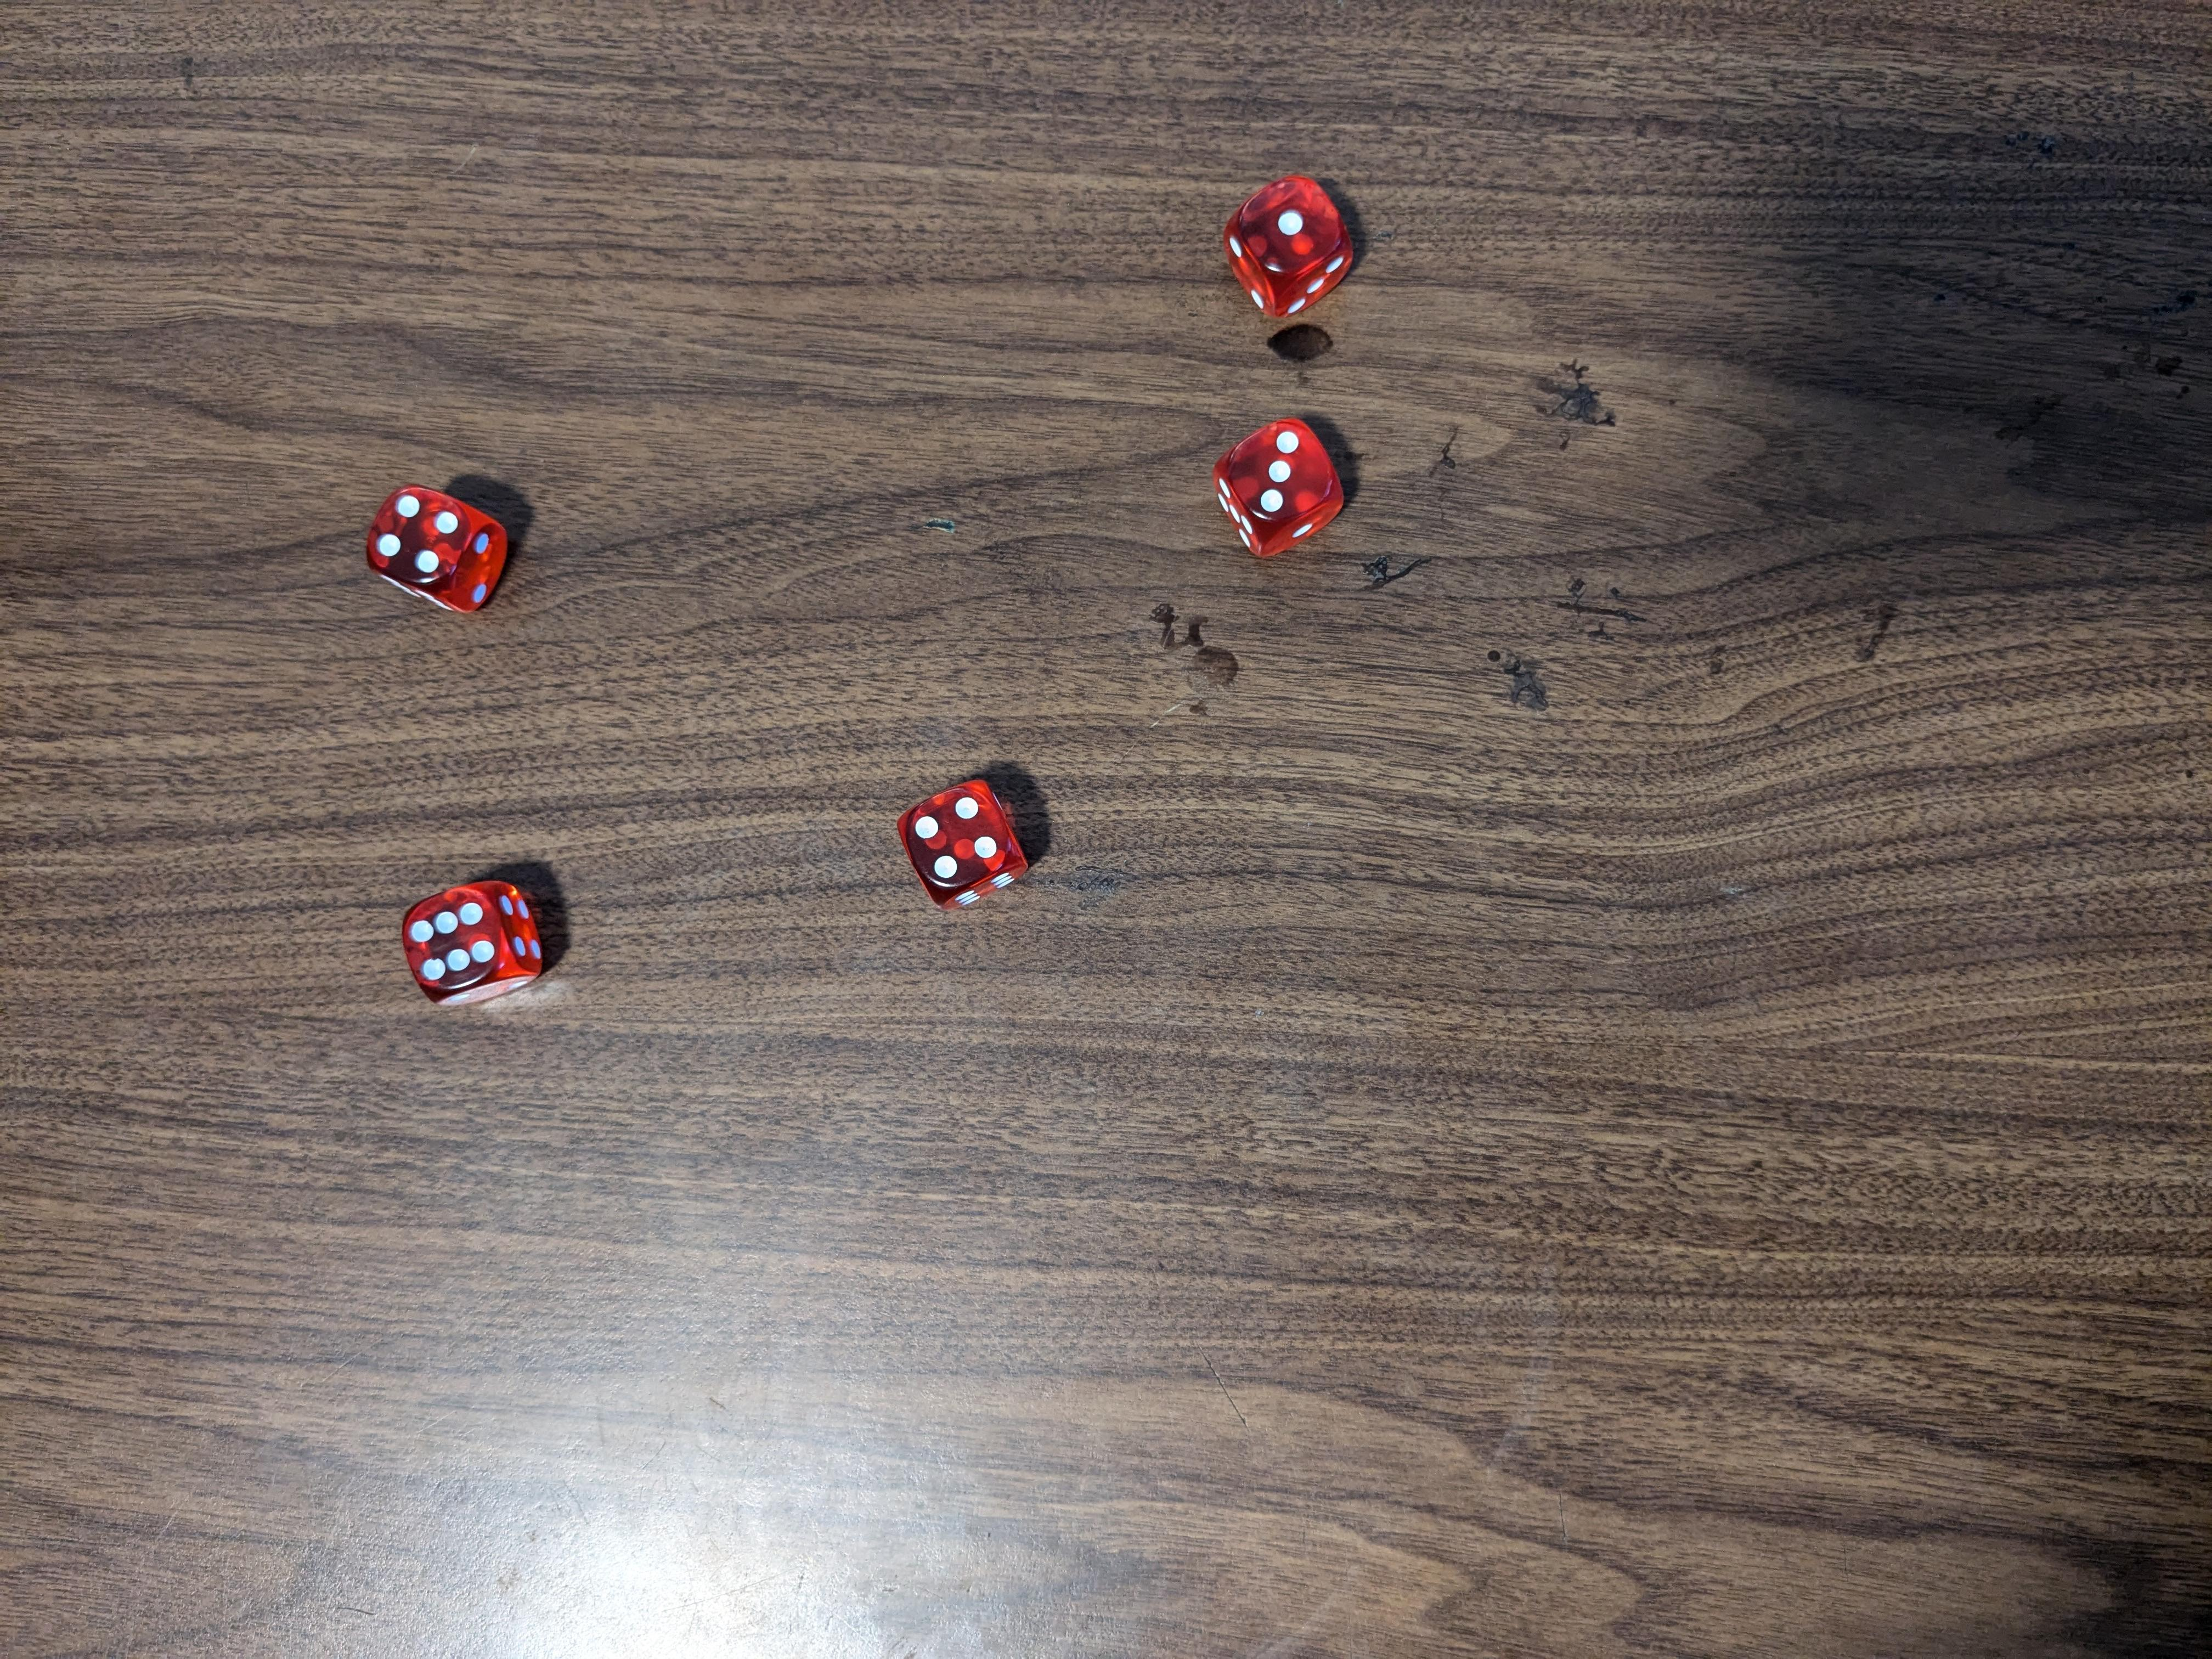four: (361, 481, 517, 617), (897, 777, 1038, 915)
one: (1223, 173, 1360, 319)
six: (402, 875, 545, 1004)
three: (1209, 416, 1350, 575)
